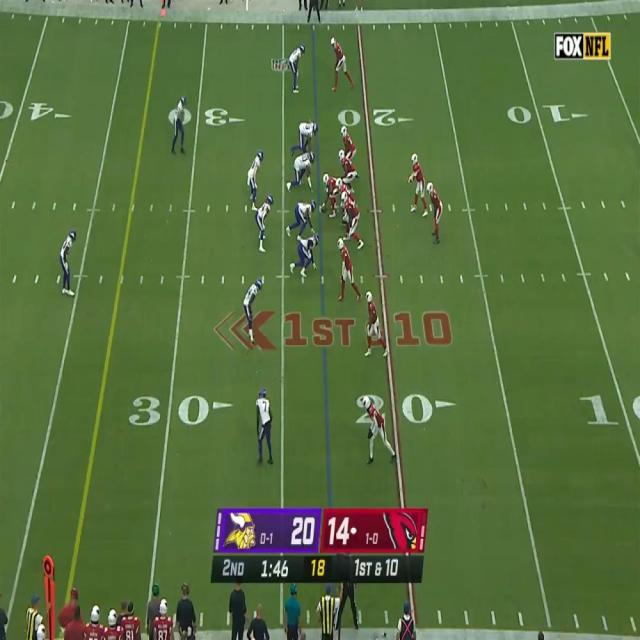center: (323, 172, 335, 214)
db: (254, 387, 275, 469), (242, 281, 262, 344), (61, 229, 77, 295), (172, 95, 188, 154), (289, 42, 305, 92)
lb: (247, 148, 264, 212), (256, 196, 274, 255)
qb: (409, 152, 429, 218)
